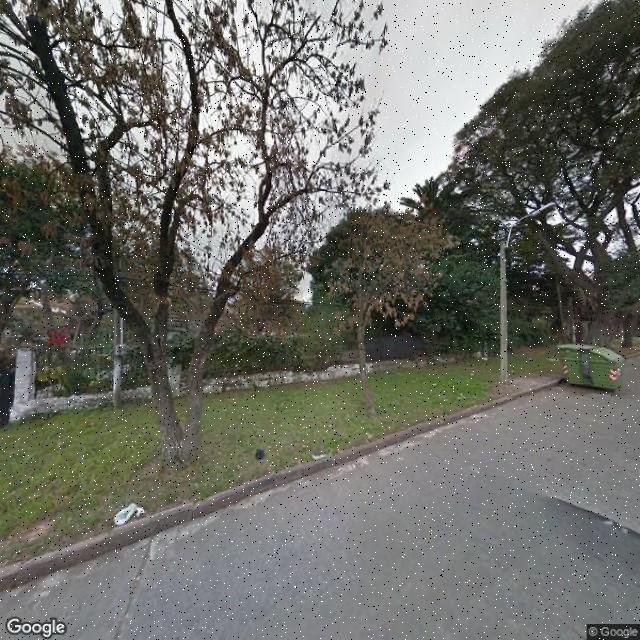garbage container: (548, 335, 640, 401)
